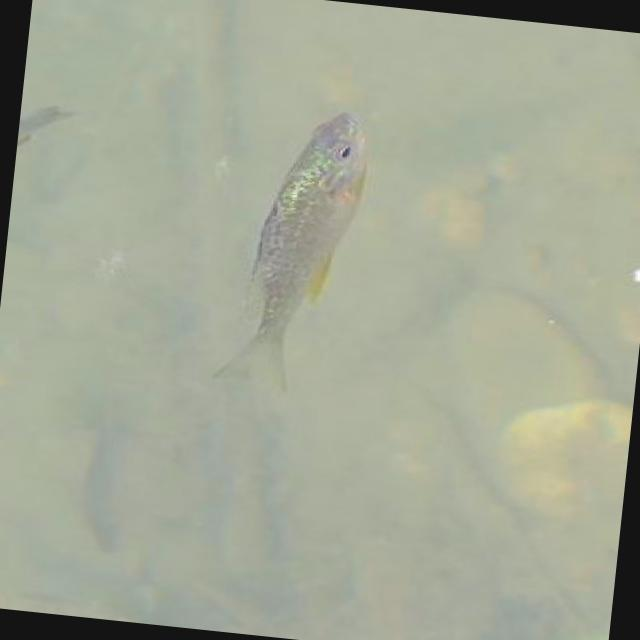Gunes Levregi: (206, 102, 376, 405)
